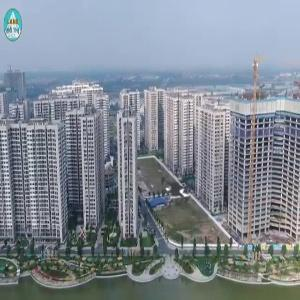drone: (142, 155, 212, 225)
